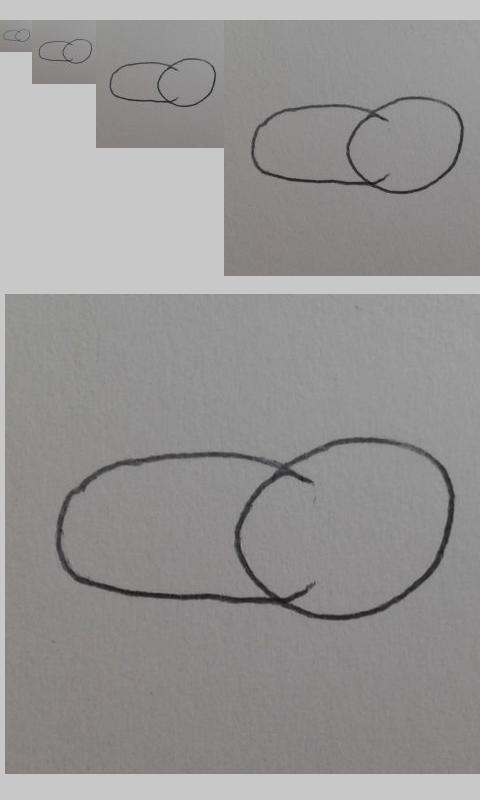switch: (55, 436, 456, 621), (250, 95, 464, 194), (109, 57, 216, 107), (38, 38, 93, 64), (3, 28, 32, 42)
